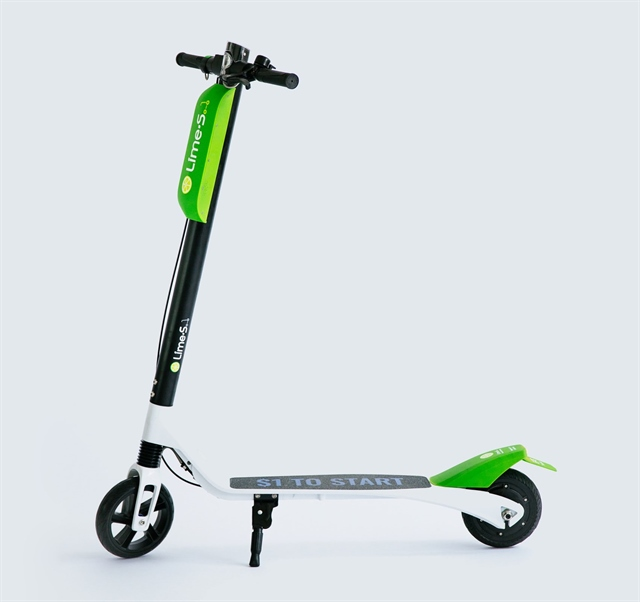scooter: (94, 37, 550, 570)
